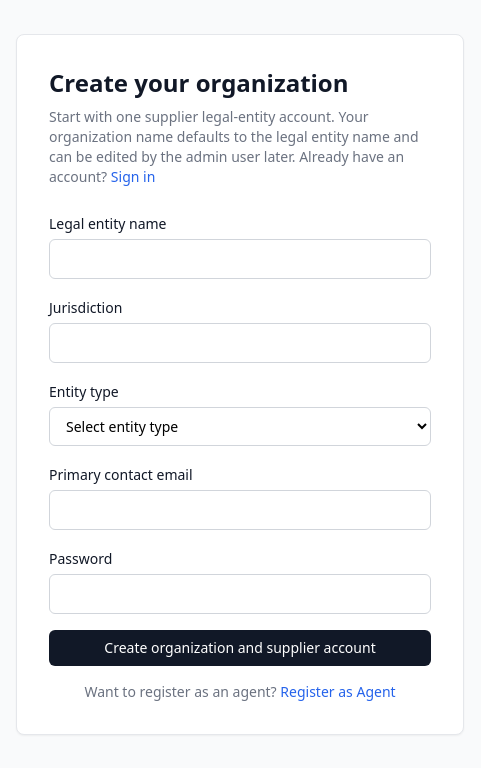
Test: SupplierRegisterPage › shows password length error for a password shorter than 12 characters
Type "short1234" into the password field labelled "Password" at (240, 594), box [49, 574, 431, 614]
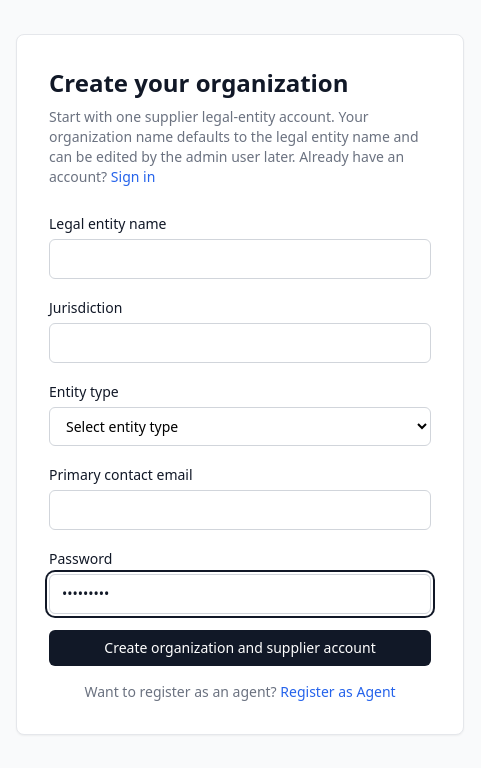
Click the button "Create organization and supplier account" at (240, 648), box [49, 630, 431, 666]
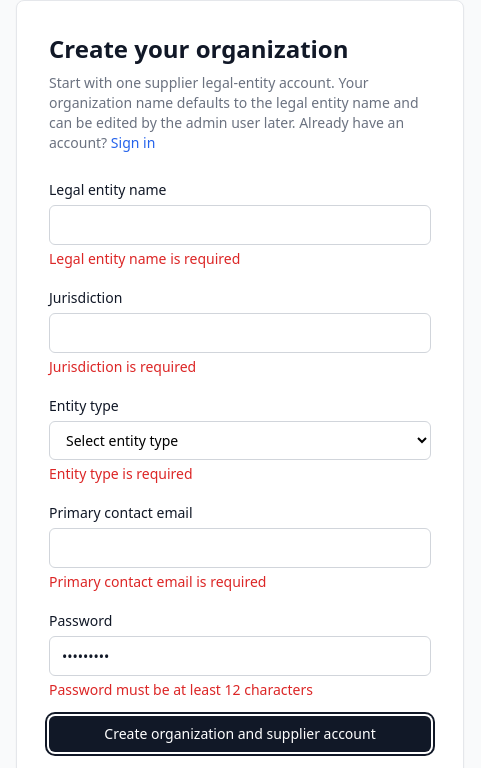
Check: the text "Password must be at least 12 characters" is shown, box [49, 680, 313, 699]
